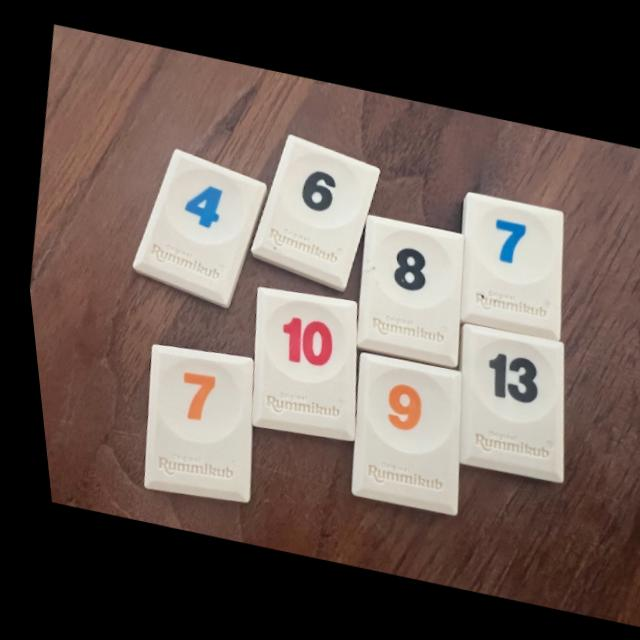black_13: (450, 322, 556, 481)
black_6: (246, 134, 377, 290)
black_8: (350, 213, 459, 365)
blue_4: (127, 149, 263, 307)
blue_7: (454, 190, 559, 338)
orange_7: (134, 344, 245, 502)
orange_9: (342, 353, 453, 513)
red_10: (243, 286, 350, 440)
